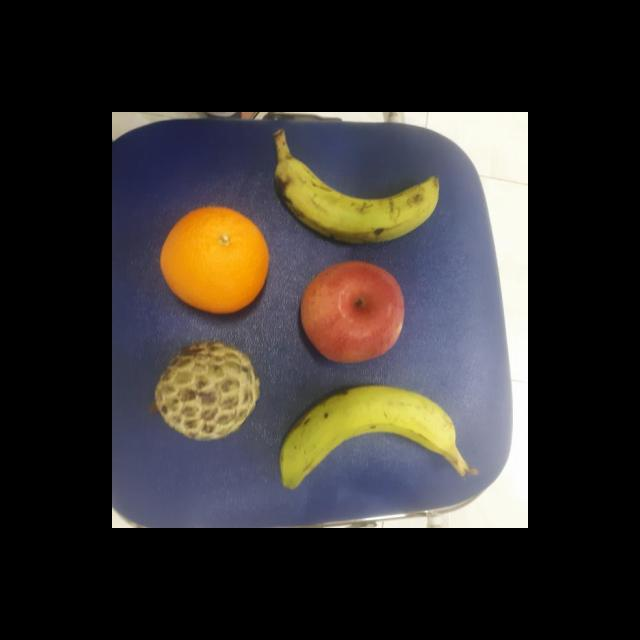Sakya fruit: (148, 338, 266, 444)
apple: (301, 260, 405, 366)
banana: (278, 381, 472, 487), (276, 146, 442, 251)
orange: (156, 202, 272, 316)
